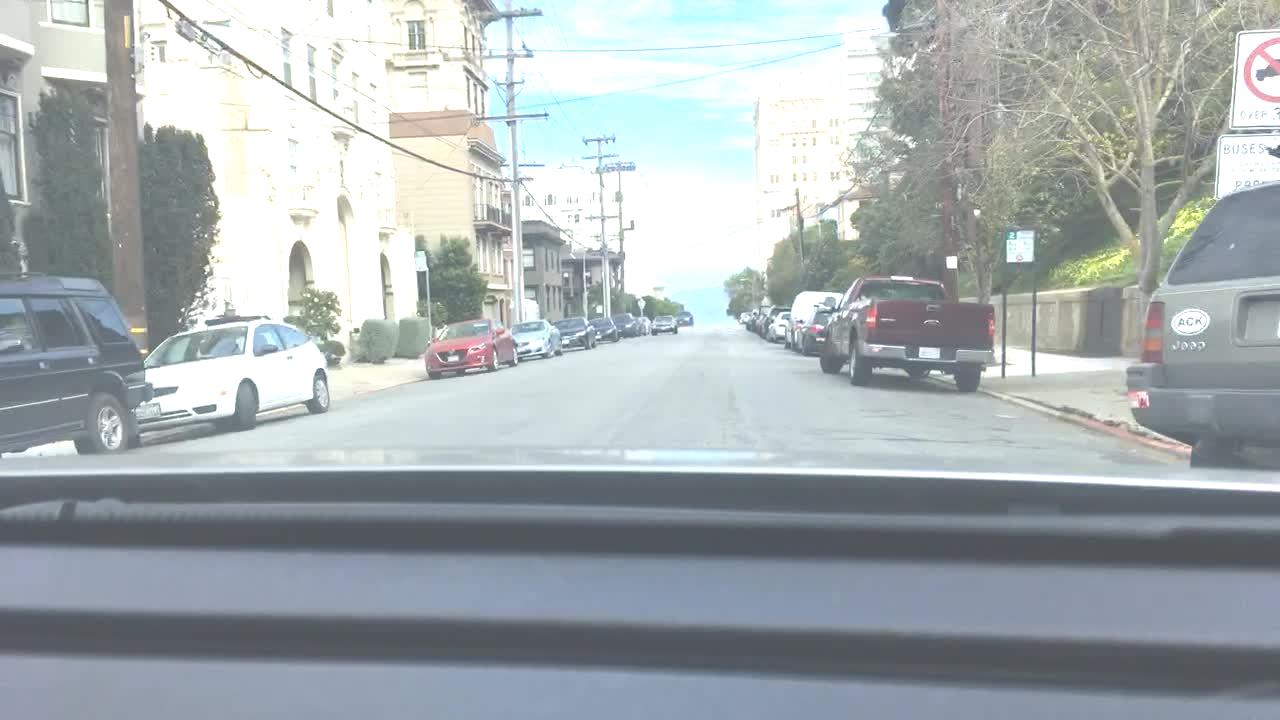jeep: (1166, 338, 1211, 354)
